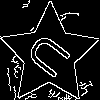U: (24, 30, 80, 87)
